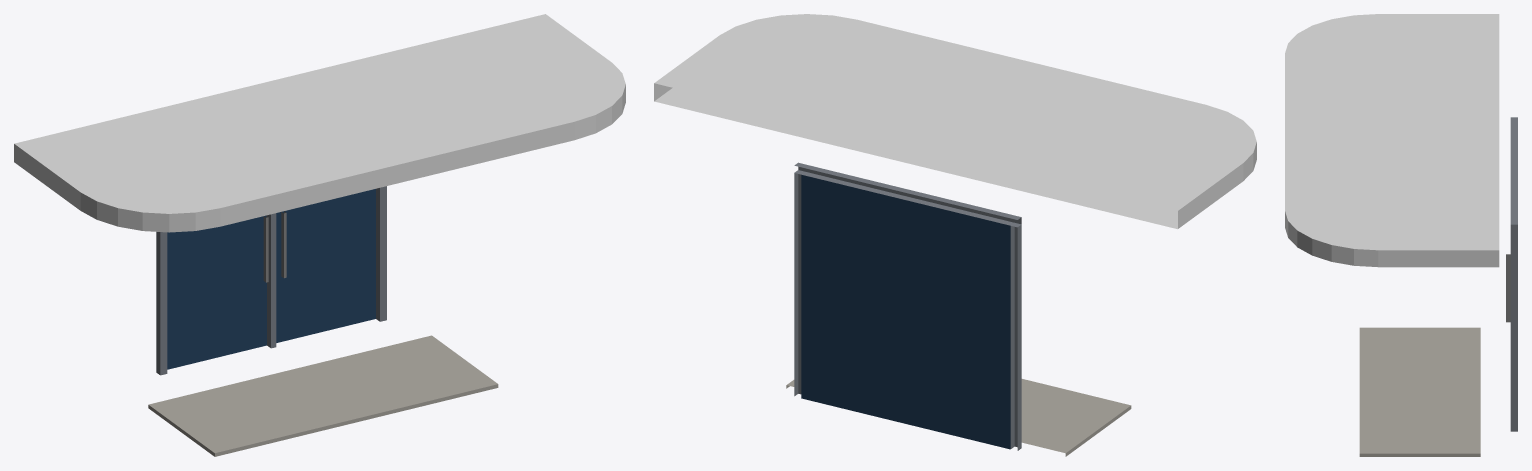
Rendered from entrance_close.fbx.
3 views of the same model, side by side, from view 1: azimuth 30°, elevation 25°; view 2: azimuth 150°, elevation 25°; view 3: azimuth 270°, elevation 25° (orthographic). The views are drawn at different scales.
Parts seen in each view (by area): view 1: a2012/800/entrance_close; view 2: a2012/800/entrance_close; view 3: a2012/800/entrance_close.
Part boxes in pixels (box(x1,y1,x2,y2)): a2012/800/entrance_close: box(14, 14, 625, 456); a2012/800/entrance_close: box(654, 14, 1256, 456); a2012/800/entrance_close: box(1285, 14, 1517, 456).
Size of the model in its own units: 6 by 3.1 by 2.5.
